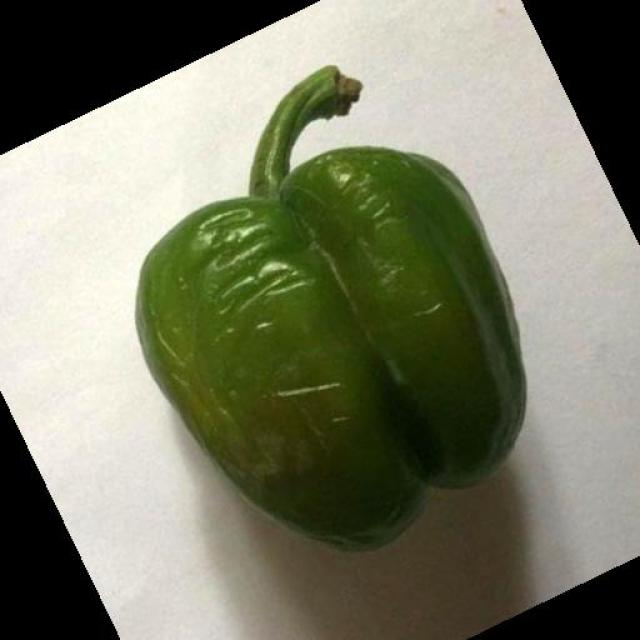Stale_Capsicum: (131, 106, 504, 534)
